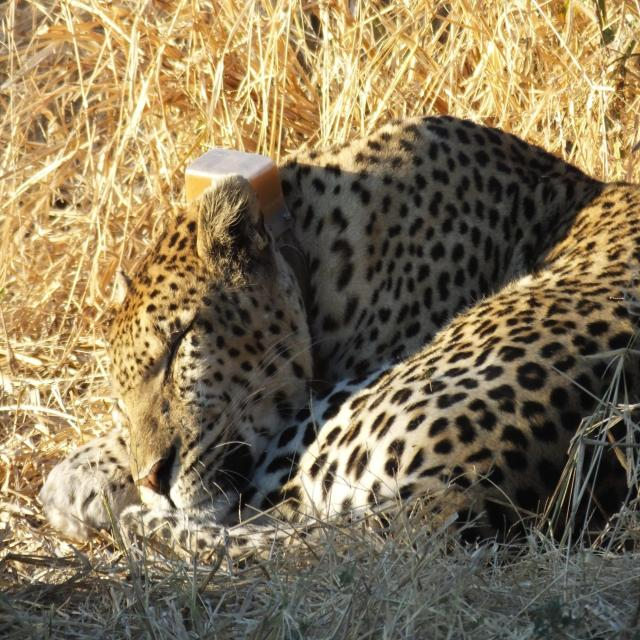Leopard: (55, 91, 640, 590)
